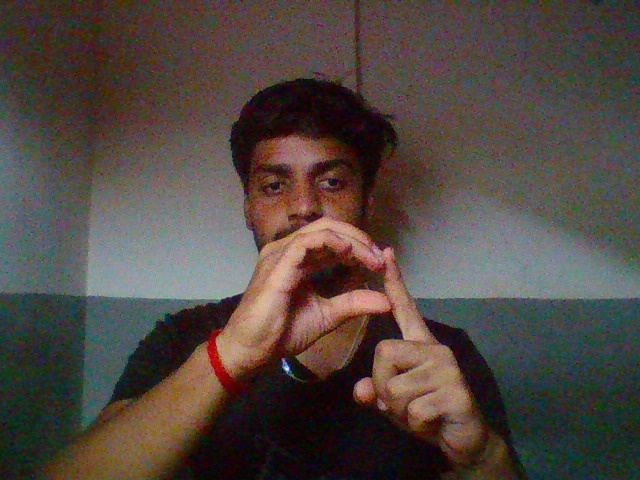P: (231, 212, 504, 459)
